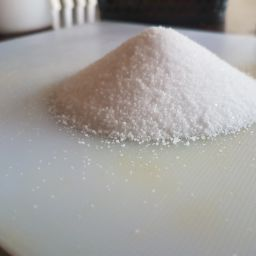Salt: (18, 25, 256, 165), (55, 19, 256, 154), (135, 43, 229, 114)
